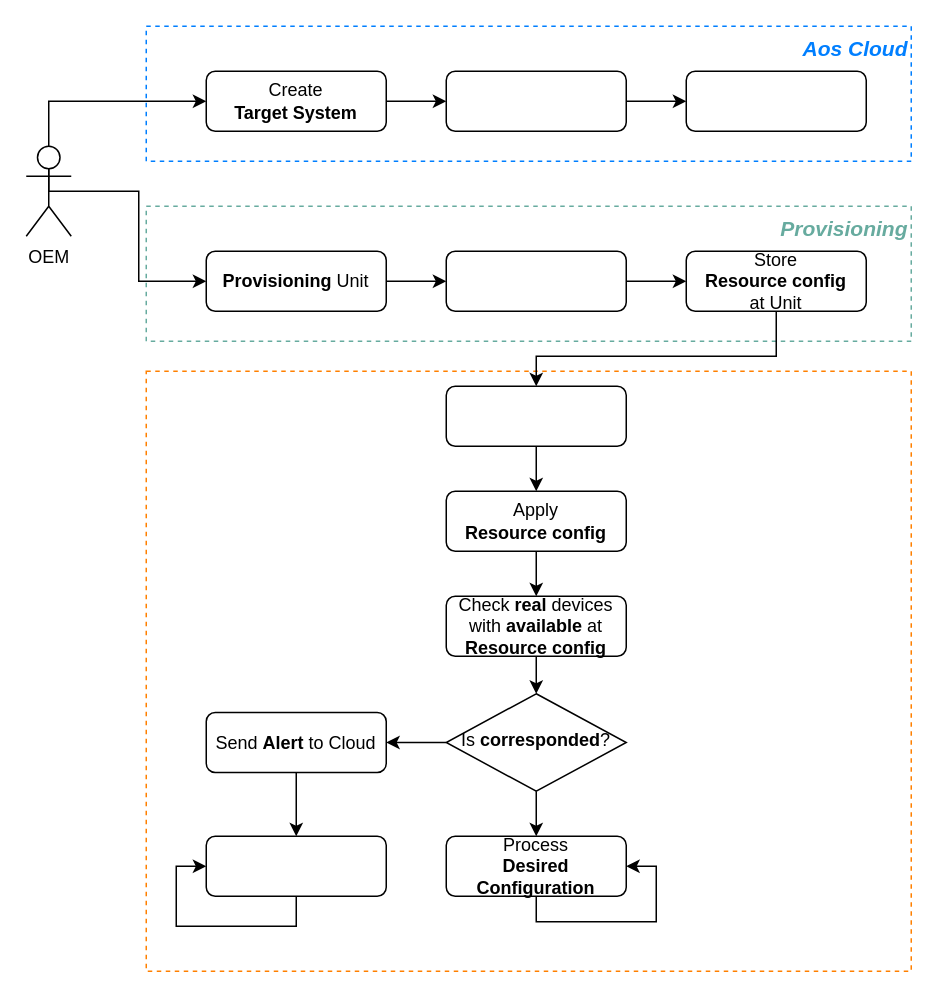
The diagram is 938 pixels wide and 998 high, and some of its shapes have lost their labels. The box of each missing label's shape, as (x1, y1, x2, y2) in pixels:
Create Resource config: (445, 70, 626, 131)
Download Resource config: (445, 250, 626, 311)
Run Aos Core: (445, 385, 626, 446)
Store Resource config for this target system: (685, 70, 866, 131)
Unit: (145, 370, 911, 971)
Wait FOTA update: (205, 835, 386, 896)
